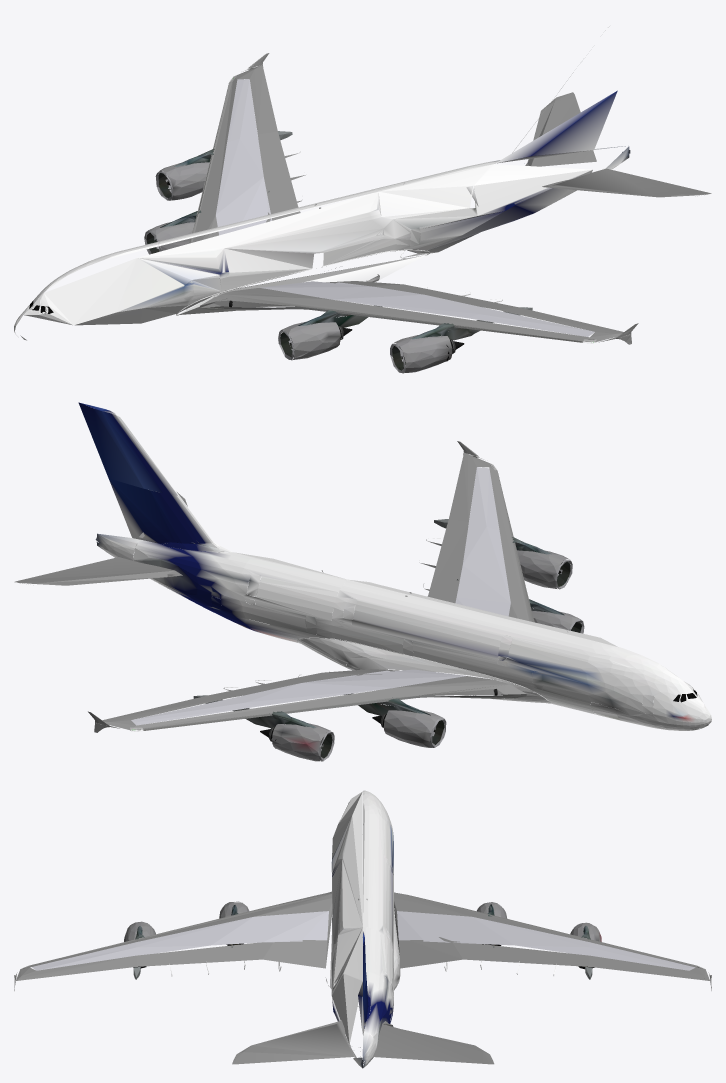
3 renders of one model, top to bottom at view 1: azimuth 30°, elevation 25°; view 2: azimuth 150°, elevation 25°; view 3: azimuth 270°, elevation 25°, orthographic. The views are drawn at different scales.
Visible parts, largest first — view 1: AILE_DROITE02, WINGS2, MAT_EXTERIEUR02, AILERONS_GAUCHE03, Rectangle09; view 2: Rectangle09, AILE_DROITE02, WINGS2, MAT_EXTERIEUR02, AILERONS_GAUCHE03; view 3: AILE_DROITE02, WINGS2, Rectangle09, AILERONS_GAUCHE03, MAT_EXTERIEUR02.
Part boxes in pixels (bbox=[...]): AILE_DROITE02: bbox=[24, 64, 629, 342]; WINGS2: bbox=[20, 76, 596, 343]; MAT_EXTERIEUR02: bbox=[144, 162, 464, 373]; AILERONS_GAUCHE03: bbox=[525, 92, 711, 197]; Rectangle09: bbox=[14, 26, 625, 361]; Rectangle09: bbox=[78, 402, 711, 748]; AILE_DROITE02: bbox=[102, 452, 702, 730]; WINGS2: bbox=[130, 464, 568, 731]; MAT_EXTERIEUR02: bbox=[260, 550, 584, 761]; AILERONS_GAUCHE03: bbox=[14, 491, 187, 585]; AILE_DROITE02: bbox=[15, 791, 710, 1068]; WINGS2: bbox=[22, 824, 703, 976]; Rectangle09: bbox=[133, 790, 594, 1067]; AILERONS_GAUCHE03: bbox=[232, 1020, 494, 1064]; MAT_EXTERIEUR02: bbox=[124, 901, 601, 967].
Size of the model in its own units: 78997 by 22873 by 79826.
